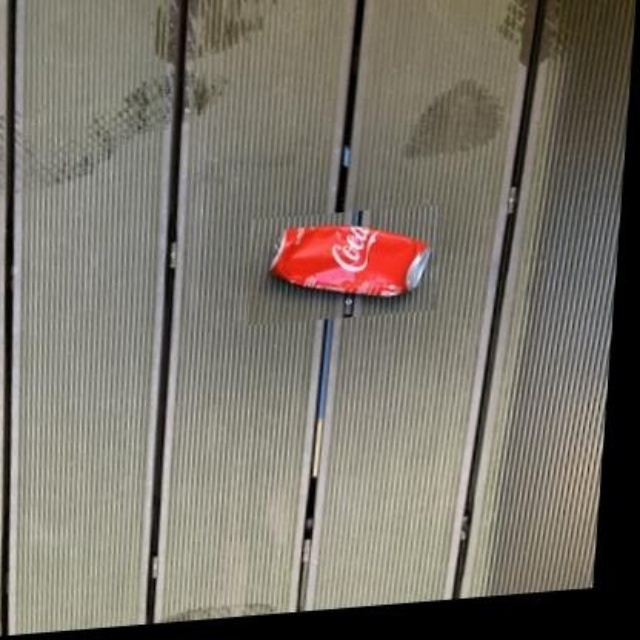trash: (271, 225, 429, 295)
